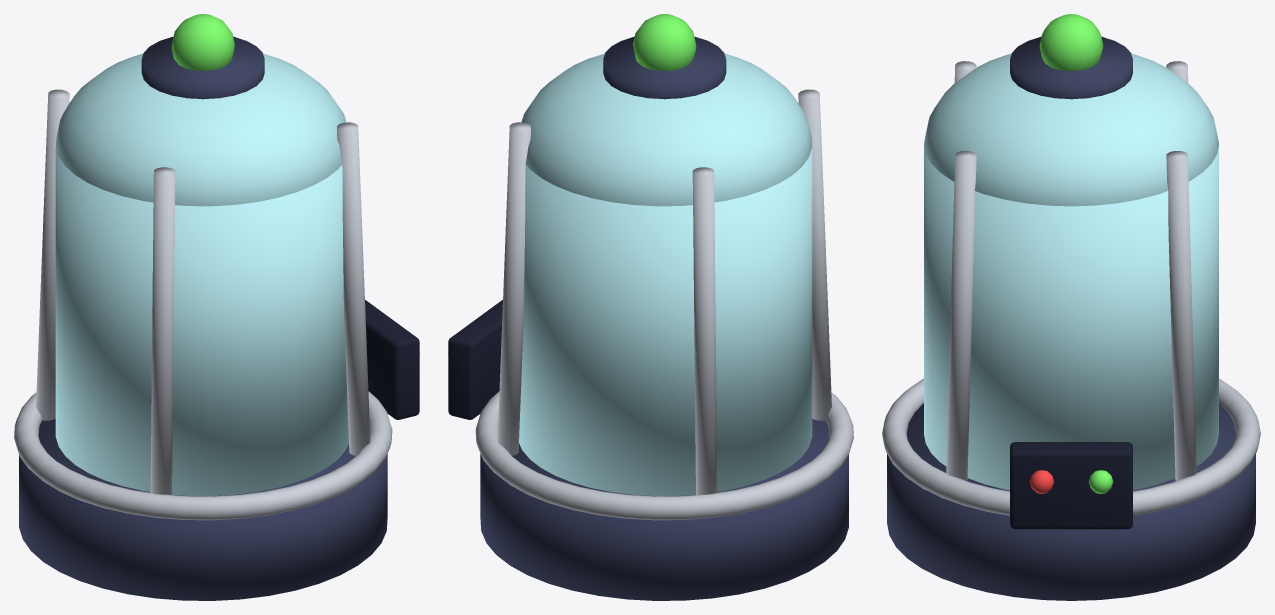
Rendered from SM_Incubator.fbx.
3 renders of one model, left to right at view 1: azimuth 30°, elevation 25°; view 2: azimuth 150°, elevation 25°; view 3: azimuth 270°, elevation 25°, orthographic.
Parts seen in each view (by area): view 1: SM_Incubator; view 2: SM_Incubator; view 3: SM_Incubator.
Part boxes in pixels (x1,y1,x2,y2): SM_Incubator: (14,14,419,600); SM_Incubator: (448,14,853,600); SM_Incubator: (882,14,1260,600).
Size of what is drawn, in the model's own units: 1.71 by 2.27 by 1.54.
Materials: 1 (1 with a texture image).
